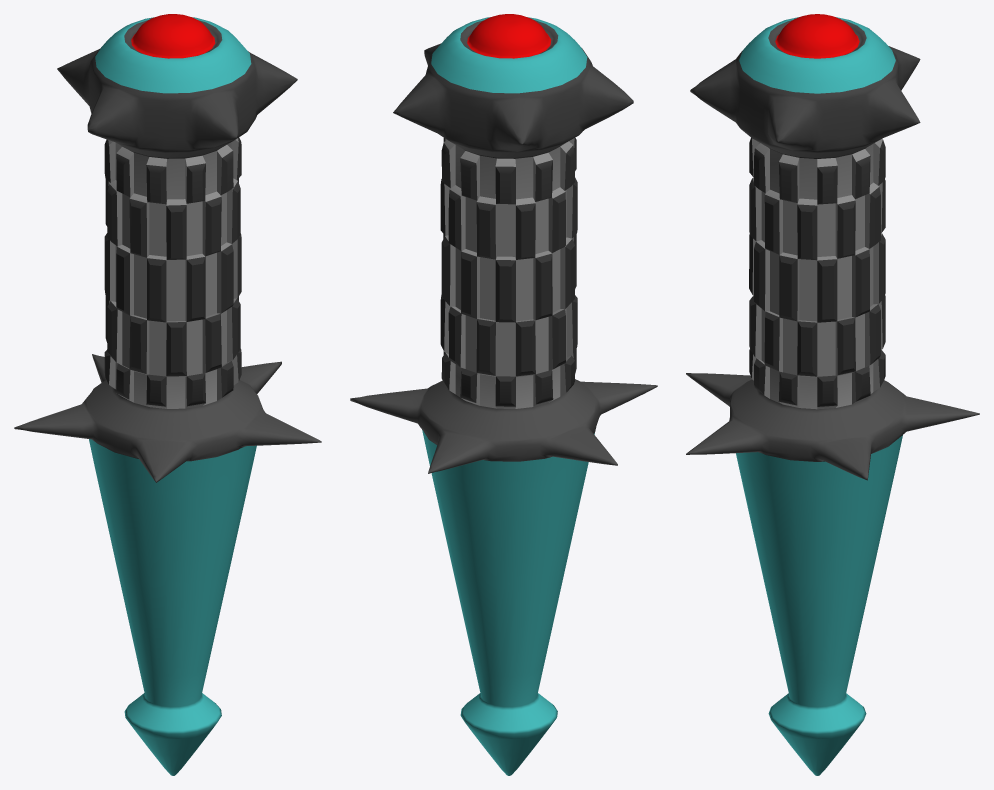
File: rogue_mine.fbx
The picture shows the model from 3 angles, left to right: view 1: azimuth 30°, elevation 25°; view 2: azimuth 150°, elevation 25°; view 3: azimuth 270°, elevation 25°; orthographic projection.
Visible parts, largest first — view 1: pCylinder1; view 2: pCylinder1; view 3: pCylinder1.
Boxes of the visible parts, x1=… form: pCylinder1: x1=14, y1=14, x2=321, y2=775; pCylinder1: x1=350, y1=14, x2=657, y2=775; pCylinder1: x1=686, y1=14, x2=979, y2=775.
Size of the model in its own units: 5 by 13.47 by 4.75.
